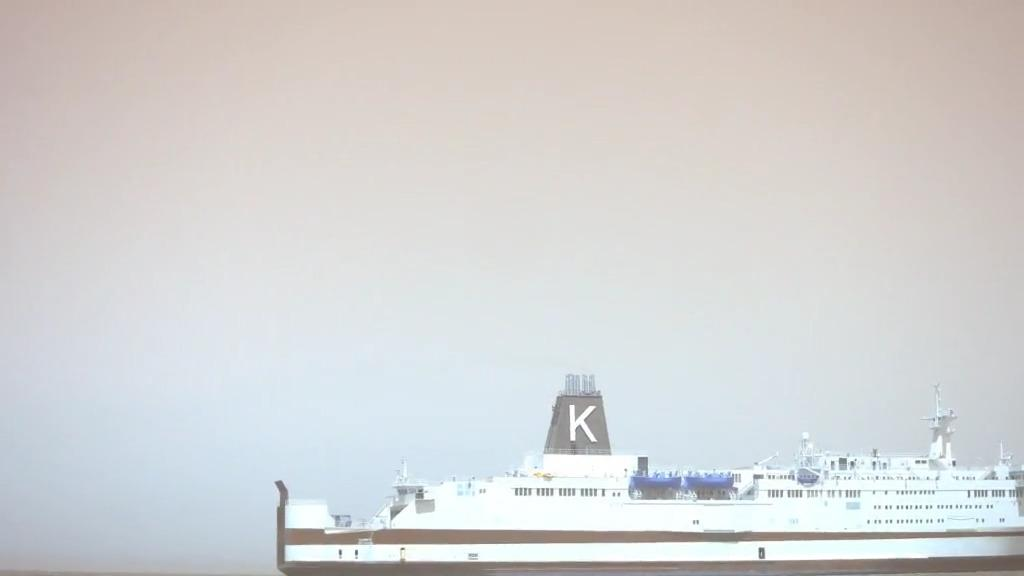PassengerShip: (263, 364, 1024, 575)
